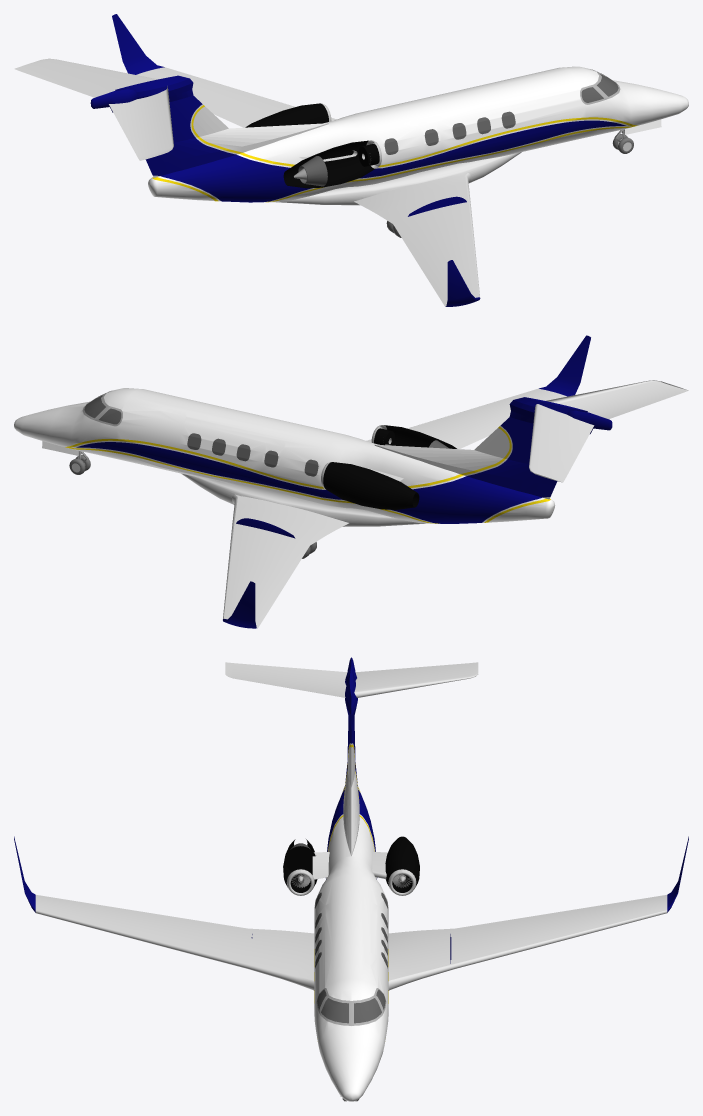
Rendered from Phenom_300.glb.
3 views of the same model, one above another, from view 1: azimuth 30°, elevation 25°; view 2: azimuth 150°, elevation 25°; view 3: azimuth 270°, elevation 25° (orthographic).
Parts seen in each view (by area): view 1: Geom3D (×8), Geom3D_ (×5); view 2: Geom3D (×7), Geom3D_ (×5); view 3: Geom3D_ (×4), Geom3D (×5).
Part boxes in pixels (bbox=[...]): Geom3D (×8): bbox=[112, 14, 688, 306]; Geom3D_ (×5): bbox=[14, 58, 521, 306]; Geom3D (×7): bbox=[14, 335, 590, 628]; Geom3D_ (×5): bbox=[181, 380, 688, 628]; Geom3D_ (×4): bbox=[35, 662, 667, 990]; Geom3D (×5): bbox=[314, 665, 419, 1101].
Size of the model in its own units: 19.5 by 5.65 by 18.57.
